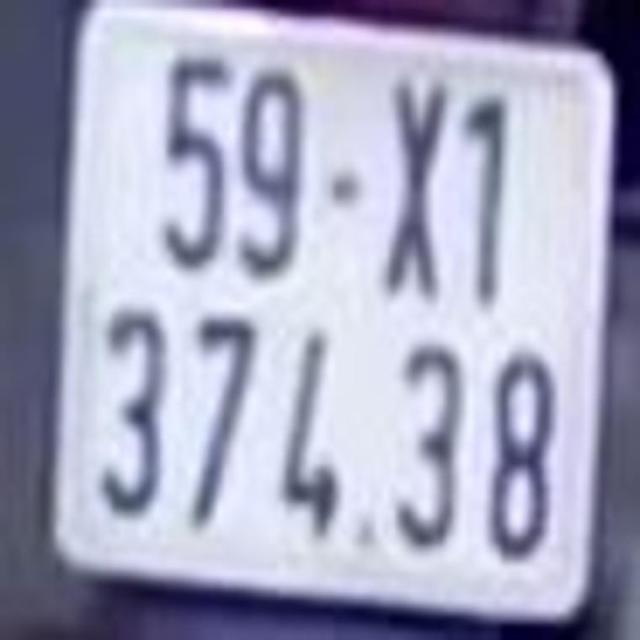1: (462, 90, 509, 306)
3: (100, 306, 166, 517), (396, 339, 460, 550)
4: (281, 327, 343, 539)
5: (161, 53, 229, 269)
7: (188, 314, 256, 531)
8: (490, 352, 554, 560)
9: (237, 66, 304, 278)
X: (384, 76, 445, 299)
